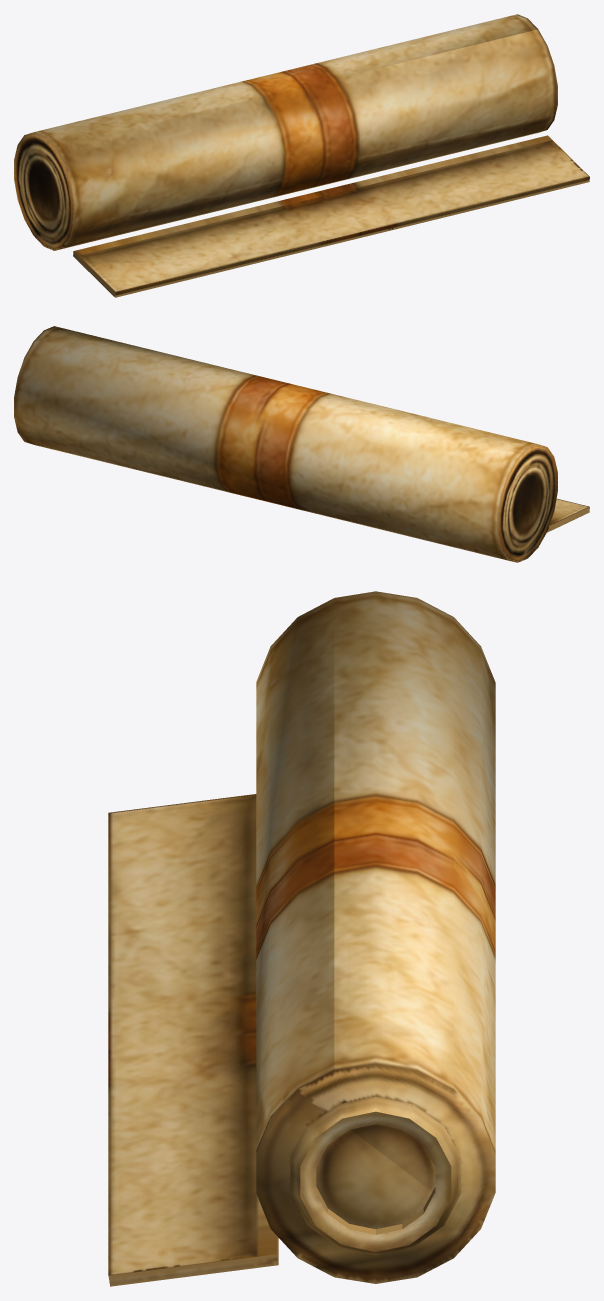
The model's file is item_mm9_10245.glb.
The picture shows the model from 3 angles, top to bottom: view 1: azimuth 30°, elevation 25°; view 2: azimuth 150°, elevation 25°; view 3: azimuth 270°, elevation 25°; orthographic projection. The views are drawn at different scales.
Visible parts, largest first — view 1: d10245; view 2: d10245; view 3: d10245.
Boxes of the visible parts, x1=… form: d10245: x1=14, y1=14, x2=589, y2=297; d10245: x1=14, y1=326, x2=589, y2=562; d10245: x1=108, y1=591, x2=495, y2=1286.
Size of the model in its own units: 63 by 13.92 by 21.45.
1 material, 1 textured.
